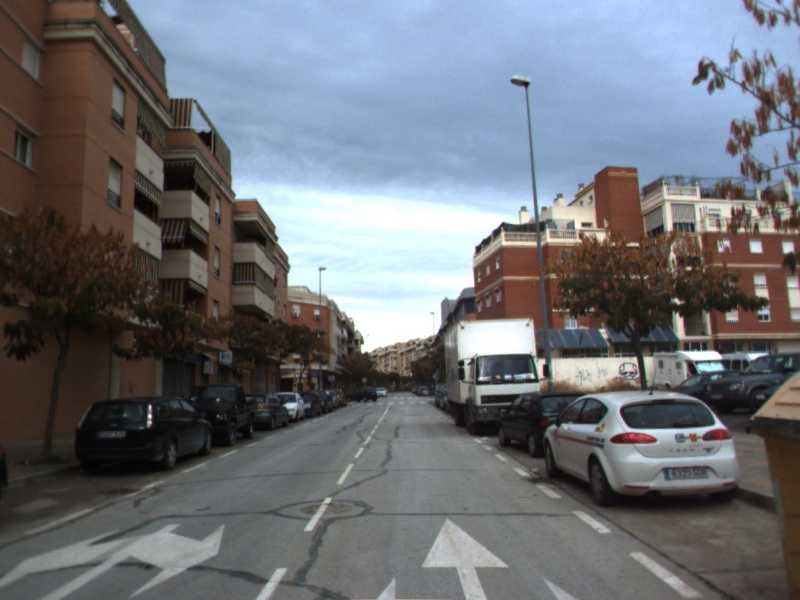STRAIGHT: (418, 515, 512, 600)
